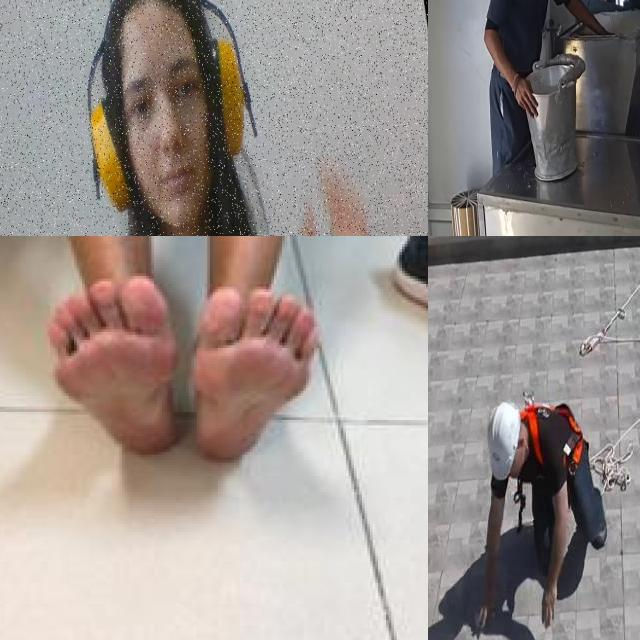Barefoots: (47, 272, 185, 461), (192, 277, 318, 478)
Ear-protection: (60, 0, 272, 236)
Harness: (520, 393, 584, 474), (580, 281, 640, 356)
hand_noglove: (515, 79, 538, 116)
